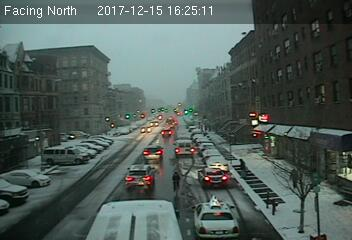bicycle: (169, 170, 181, 196)
car: (192, 198, 239, 238), (125, 164, 157, 190), (197, 167, 227, 186), (204, 155, 228, 171), (143, 146, 163, 159), (160, 129, 172, 136)
pedestrian: (238, 157, 246, 177)
truck: (173, 140, 195, 156)
